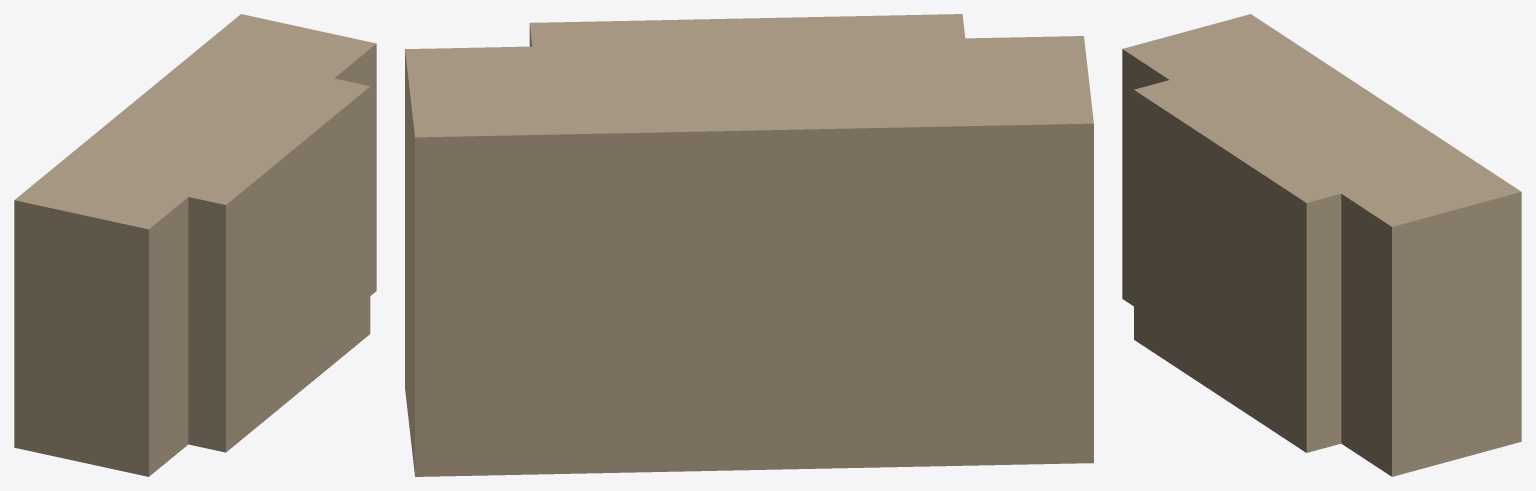
The model's file is bld_977330739.dae.
3 renders of one model, left to right at view 1: azimuth 30°, elevation 25°; view 2: azimuth 150°, elevation 25°; view 3: azimuth 270°, elevation 25°, orthographic. The views are drawn at different scales.
Visible parts, largest first — view 1: bld_977330739; view 2: bld_977330739; view 3: bld_977330739.
Boxes of the visible parts, x1=… form: bld_977330739: x1=14, y1=14, x2=376, y2=476; bld_977330739: x1=405, y1=14, x2=1093, y2=476; bld_977330739: x1=1122, y1=14, x2=1521, y2=476.
Size of the model in its own units: 21.93 by 17.37 by 12.
